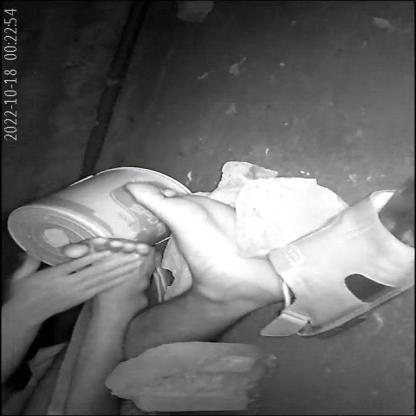hand: (5, 243, 146, 367)
leg: (118, 172, 285, 358), (54, 233, 164, 404)
